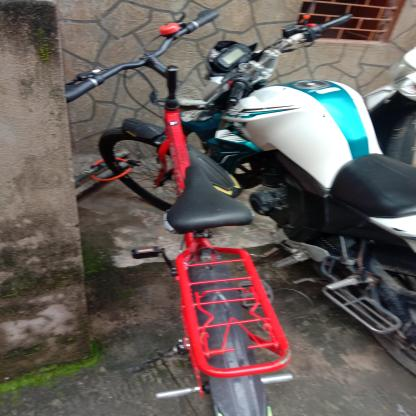bike: (31, 5, 308, 416)
